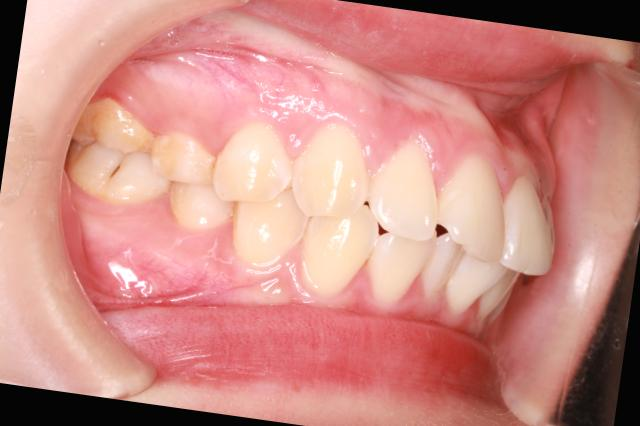canine class II 1/4: (216, 96, 395, 306)
molar class I: (44, 88, 168, 235)
